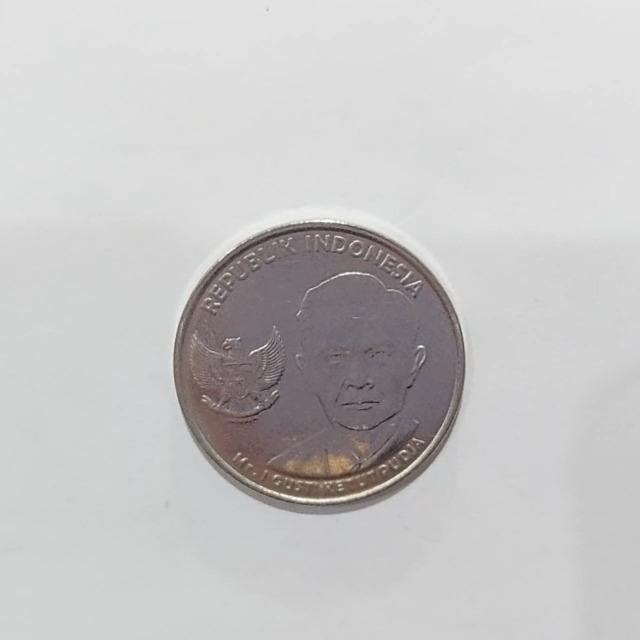Rp100: (171, 212, 467, 512)
